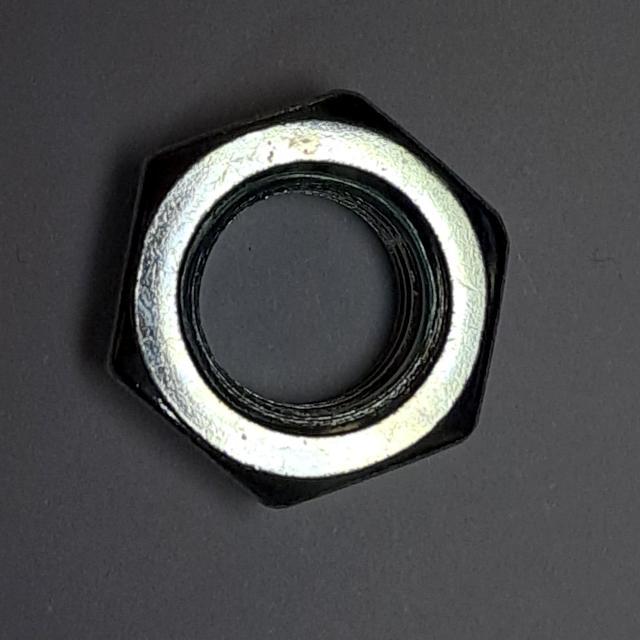Excellent: (87, 75, 528, 527)
